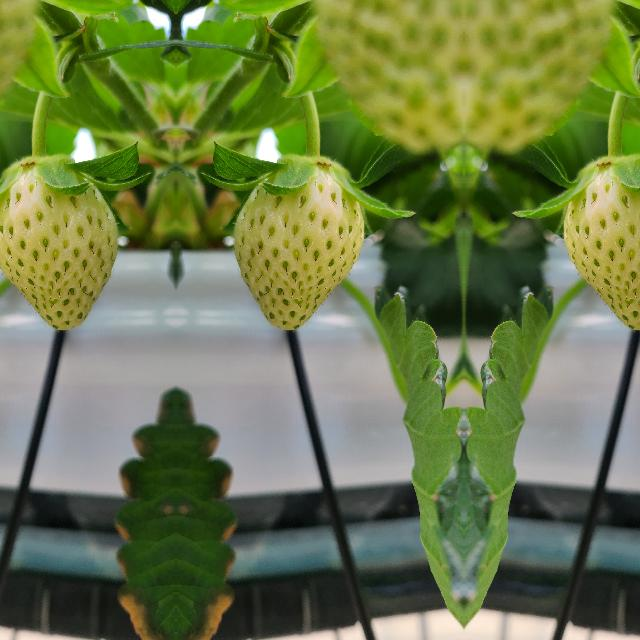Health_25: (232, 166, 362, 330), (0, 166, 117, 330), (564, 166, 640, 330)
